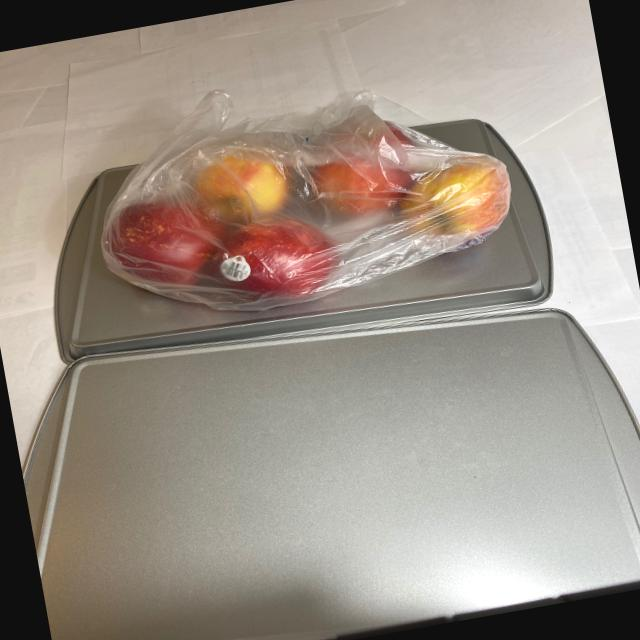apple: (90, 96, 532, 334)
